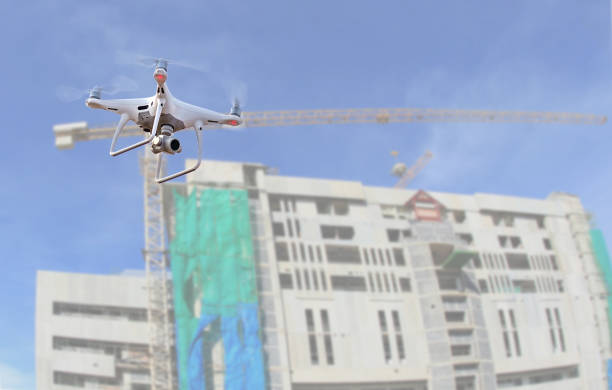Drone: (60, 50, 253, 189)
